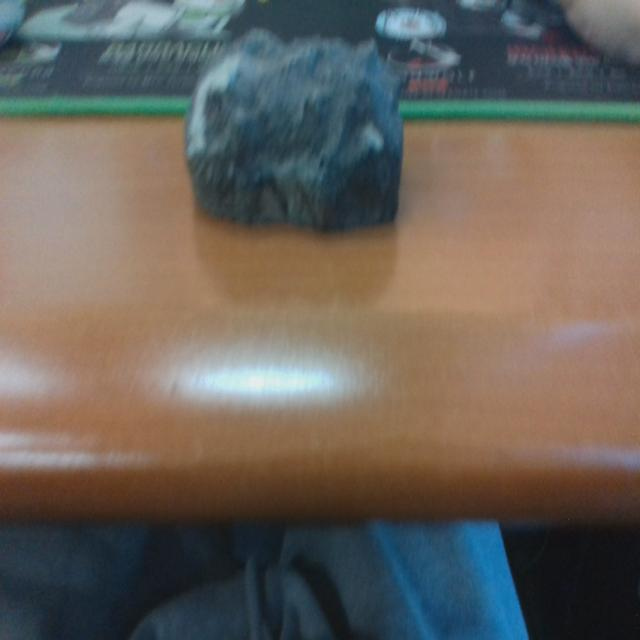stone: (180, 30, 407, 239)
